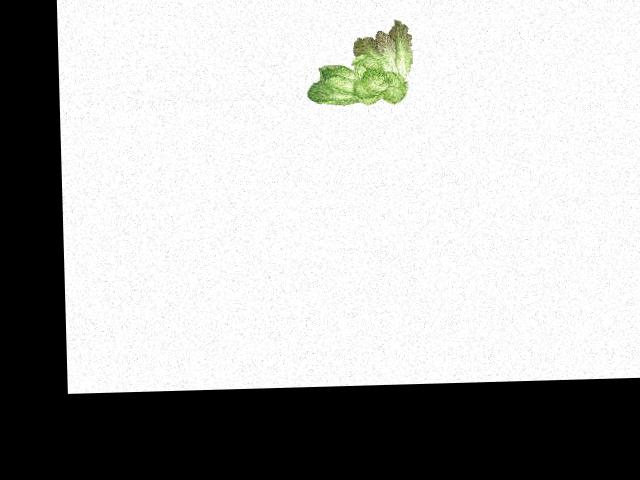lettuce: (304, 14, 416, 112)
